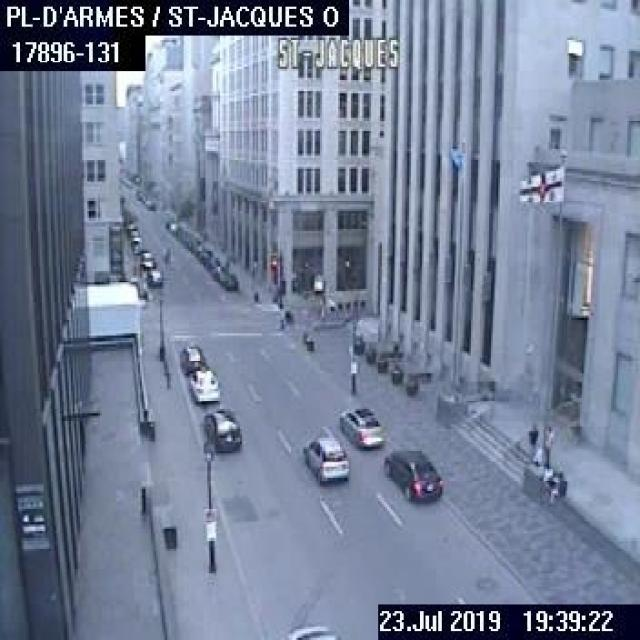pedestrian: (546, 469, 566, 502), (544, 426, 552, 466), (528, 418, 536, 456)
vehicle: (382, 444, 441, 500), (300, 431, 347, 480), (338, 404, 380, 444), (202, 405, 240, 449), (188, 364, 217, 402), (178, 344, 204, 374), (286, 622, 334, 638), (220, 269, 236, 289), (140, 250, 154, 267), (148, 268, 162, 284), (130, 236, 143, 253)
